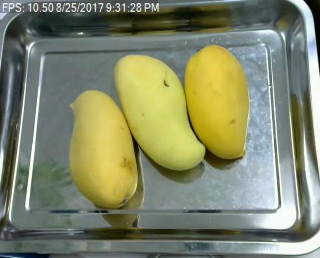Mango: (113, 54, 205, 168), (68, 89, 139, 206), (183, 44, 252, 159)
